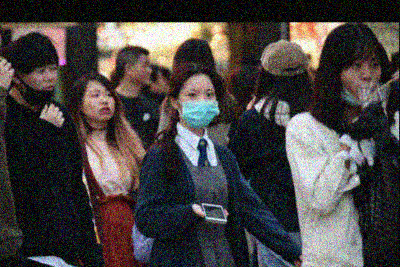mask_weared_incorrect: (340, 54, 384, 107), (25, 64, 58, 107)
with_mask: (179, 86, 221, 129)
without_mask: (84, 87, 117, 125), (134, 58, 153, 86)
